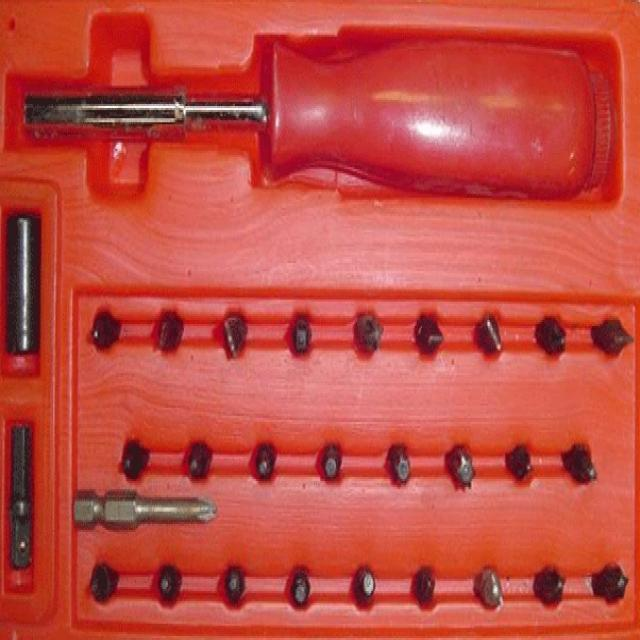screwdriver: (7, 11, 629, 232)
